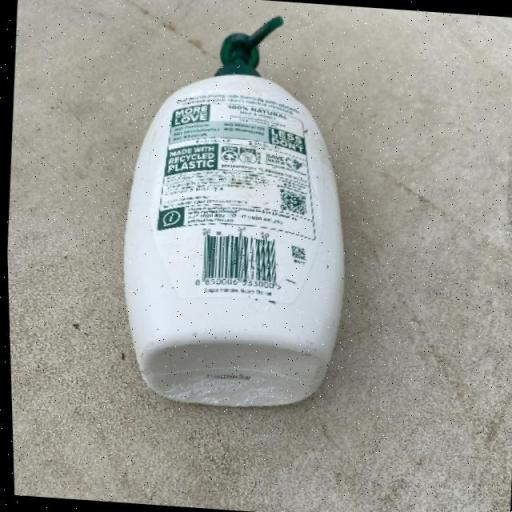plastic: (103, 4, 364, 415)
